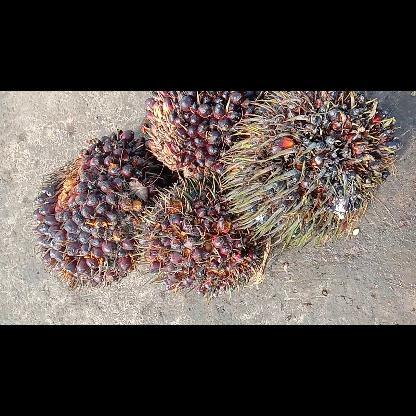Kurang masak: (141, 178, 265, 292), (146, 90, 250, 180)
TBS abnormal: (223, 91, 399, 241)
TBS masak: (34, 132, 166, 284)
